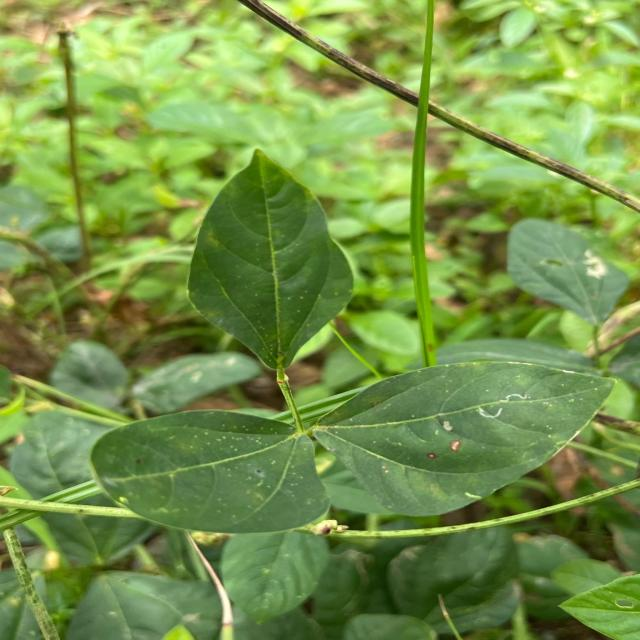leaf-low: (188, 149, 355, 378), (91, 411, 329, 534)
sitaw-aphid-high: (314, 361, 614, 515)
sitaw-aphid-moderate: (429, 101, 640, 212), (240, 0, 418, 107)
